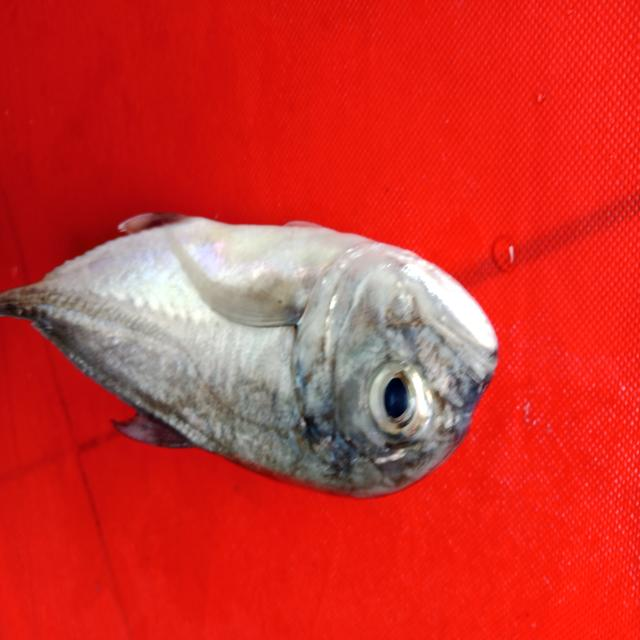ikan: (14, 192, 524, 523)
